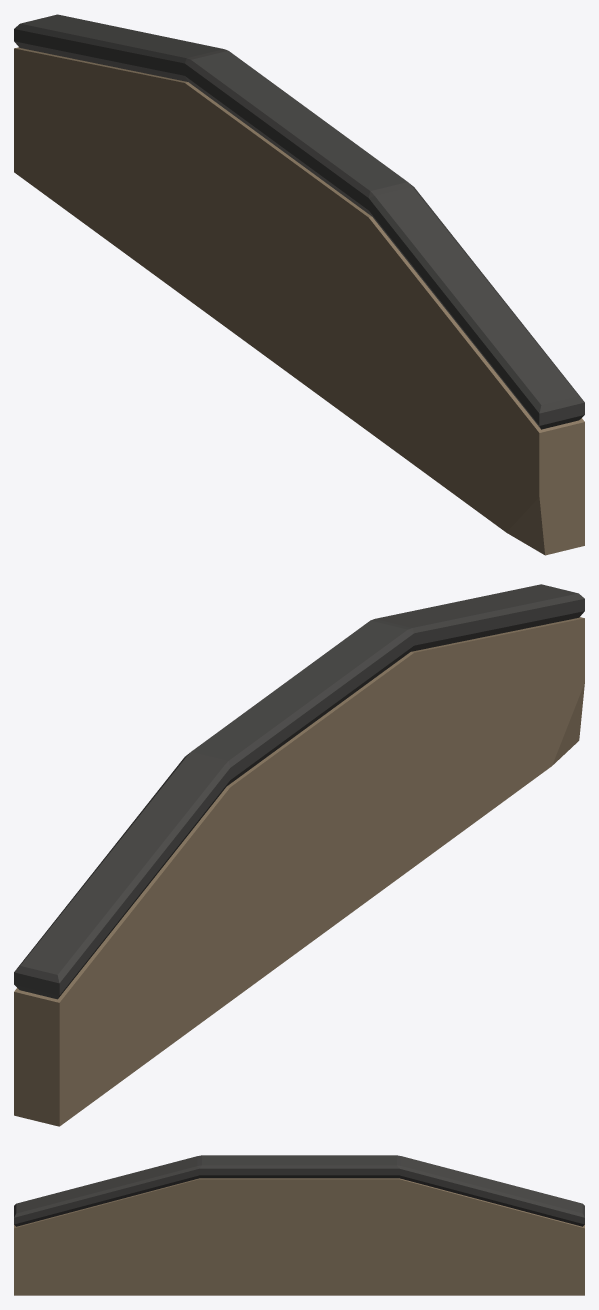
File: SM_Props_City_PlayGround_Skatepark_Element_03.fbx
3 renders of one model, top to bottom at view 1: azimuth 30°, elevation 25°; view 2: azimuth 150°, elevation 25°; view 3: azimuth 270°, elevation 25°, orthographic. The views are drawn at different scales.
Parts seen in each view (by area): view 1: SM_Props_City_PlayGround_Skatepark_Element_03; view 2: SM_Props_City_PlayGround_Skatepark_Element_03; view 3: SM_Props_City_PlayGround_Skatepark_Element_03.
Boxes of the visible parts, bbox=[...] form: SM_Props_City_PlayGround_Skatepark_Element_03: bbox=[14, 14, 584, 555]; SM_Props_City_PlayGround_Skatepark_Element_03: bbox=[14, 584, 584, 1126]; SM_Props_City_PlayGround_Skatepark_Element_03: bbox=[14, 1155, 584, 1295].
Size of the model in its own units: 20 by 100 by 400.
